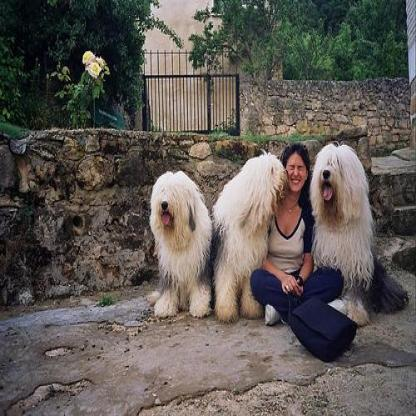Old_English_sheepdog: (307, 141, 409, 325), (213, 150, 289, 322), (148, 168, 212, 314)
